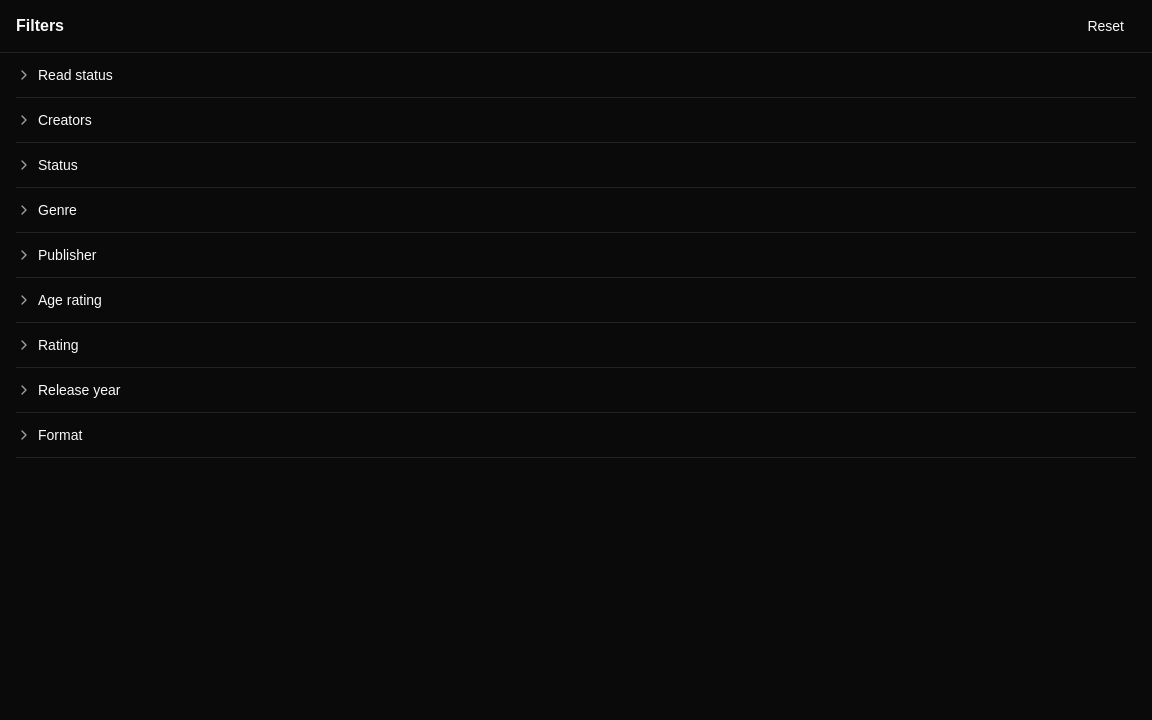
Test: FilterPanelInner › seeds a point range from a single entry (Enter in the from-field)
The width and height of the screenshot is (1152, 720).
Click the button "Release year": (79, 390) x1=16 y1=368 x2=1136 y2=412
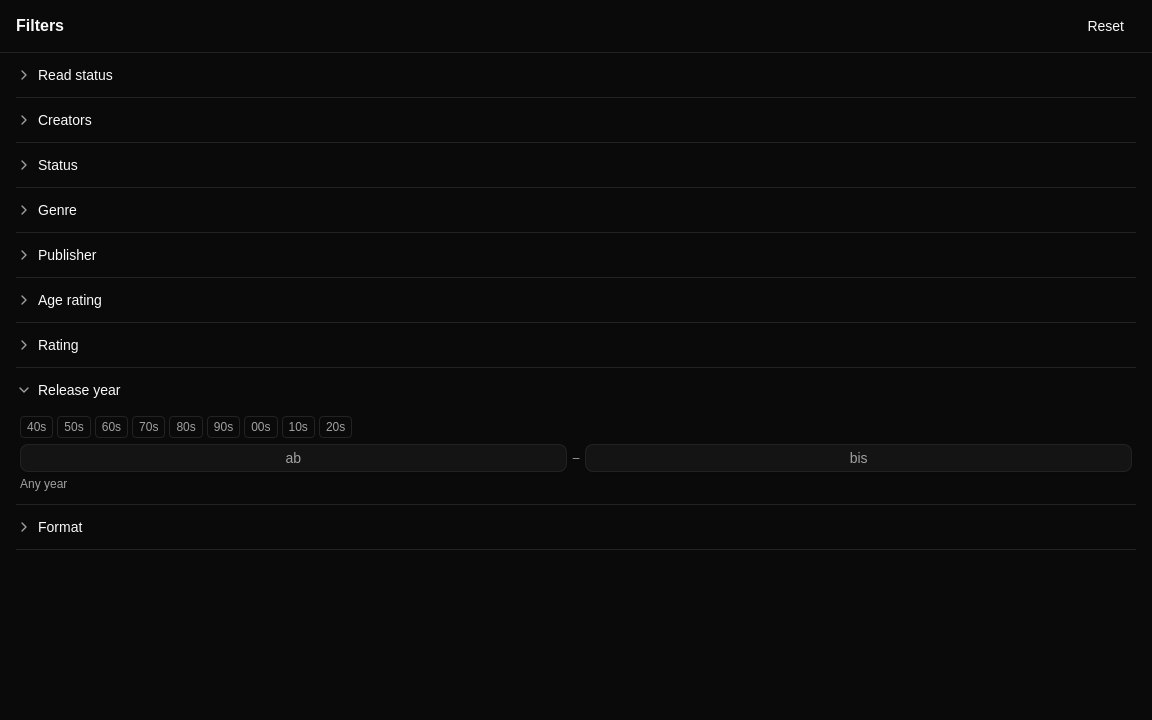
Note: Date-range-picker convention: the first committed value seeds BOTH ends.
In the field named "Year from": (293, 458) x1=20 y1=444 x2=567 y2=472, type "1986"
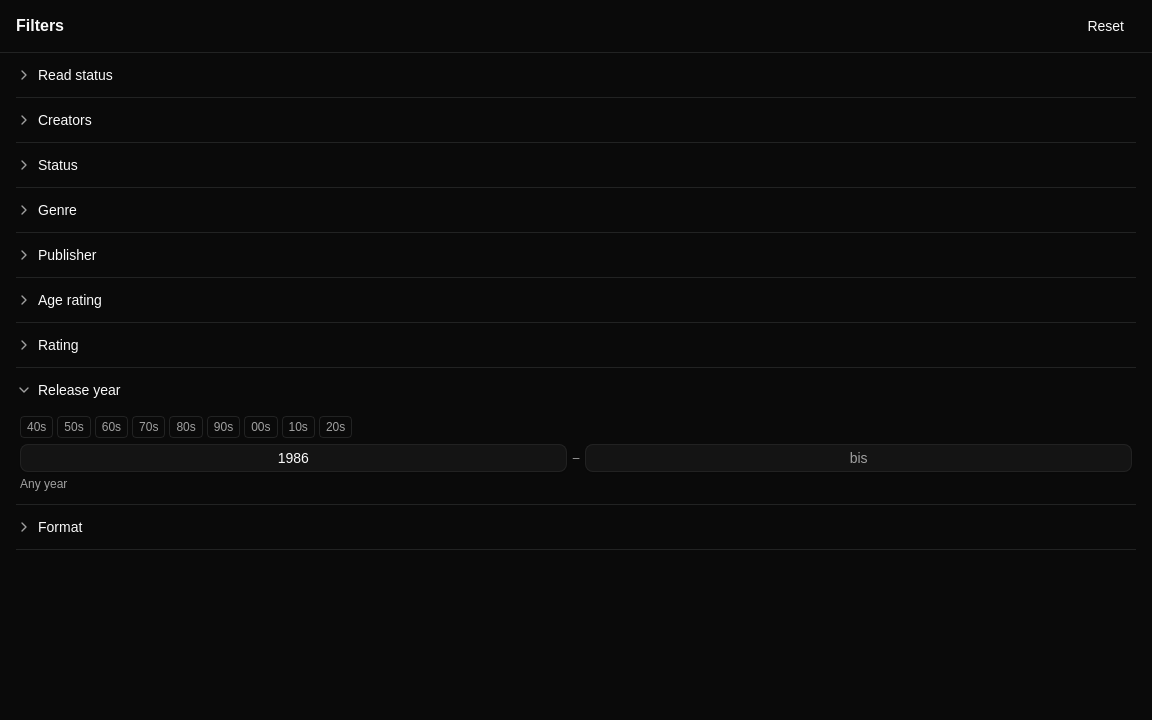
Press Enter in the field named "Year from", box x1=20 y1=444 x2=567 y2=472
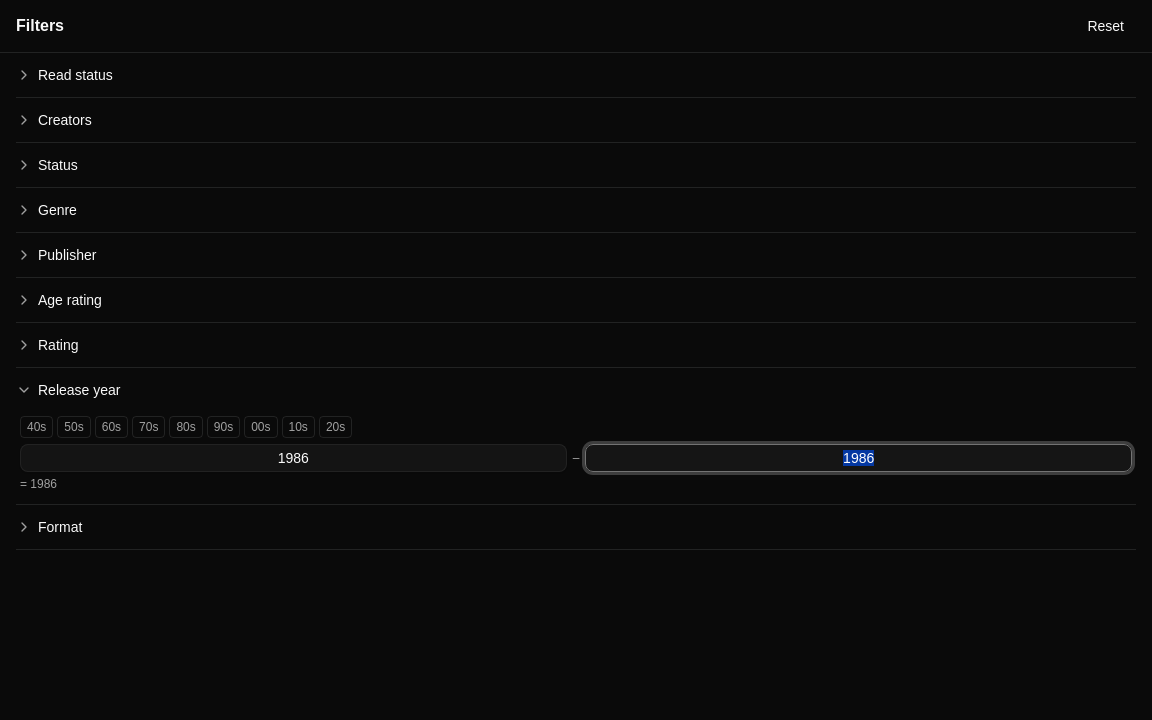
expect the text "= 1986" is shown: met, box x1=20 y1=477 x2=57 y2=491
expect the field named "Year to" holds "1986": met
Replace the text in the field named "Year to" with "2020": (859, 458) x1=585 y1=444 x2=1132 y2=472
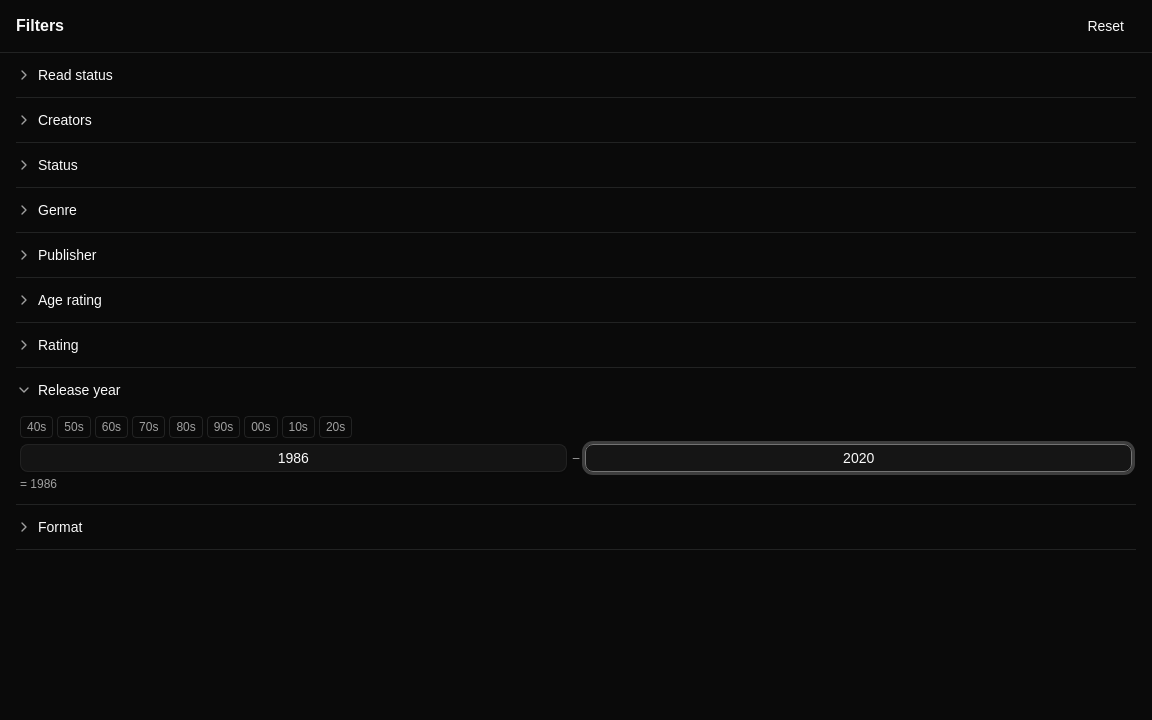
Press Enter in the field named "Year to", box x1=585 y1=444 x2=1132 y2=472
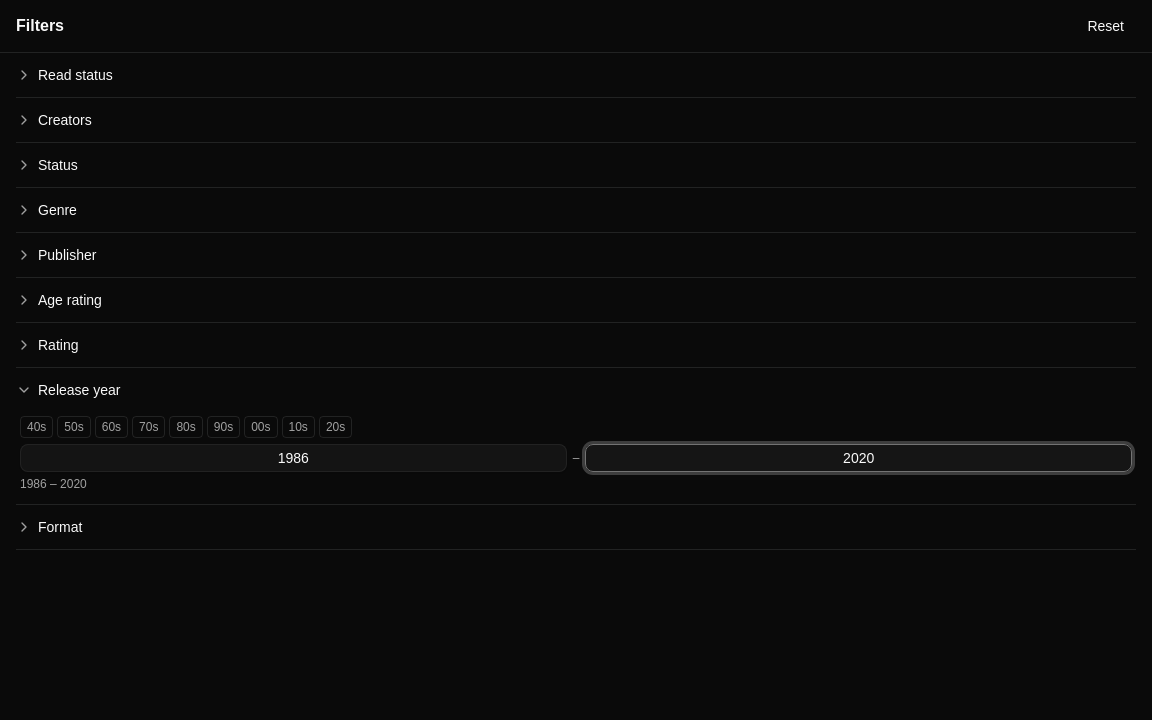
expect the text "1986 – 2020" is shown: met, box x1=20 y1=477 x2=87 y2=491
